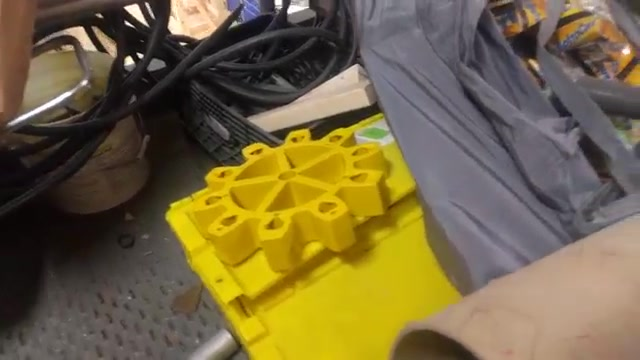gear: (190, 119, 391, 273)
